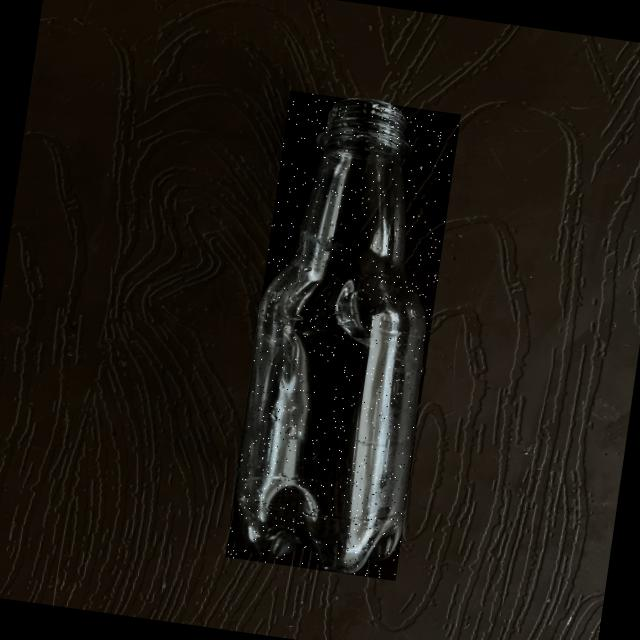PET_With_Liquid: (237, 130, 425, 573)
